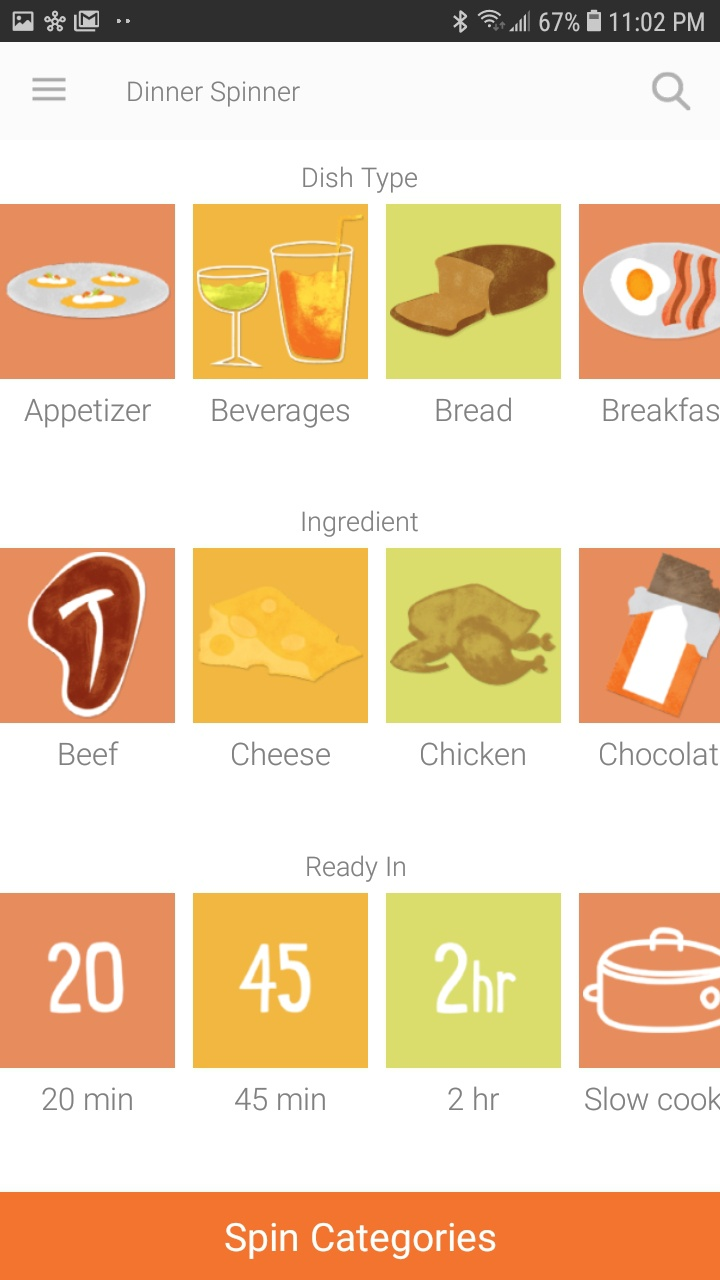Icon: (651, 72, 691, 111), (32, 77, 68, 103)
Image: (193, 548, 369, 724), (1, 548, 176, 724), (386, 548, 561, 724), (193, 893, 369, 1068), (1, 205, 176, 380), (194, 205, 369, 380), (386, 205, 561, 380), (1, 893, 176, 1068), (386, 893, 561, 1068), (579, 548, 720, 724), (579, 205, 720, 380), (579, 893, 720, 1068)
Text: (128, 81, 301, 108), (212, 399, 350, 429), (24, 398, 153, 429), (585, 1086, 720, 1111), (303, 166, 418, 195), (302, 510, 419, 538), (603, 396, 720, 423), (599, 741, 720, 767), (307, 855, 406, 883), (421, 741, 526, 767), (232, 741, 331, 767), (235, 1086, 326, 1112), (42, 1086, 134, 1111), (436, 397, 512, 423), (59, 741, 121, 766), (448, 1085, 500, 1111)
TextButton: (1, 1192, 720, 1280)
UpperTaskBar: (1, 1, 720, 43)
